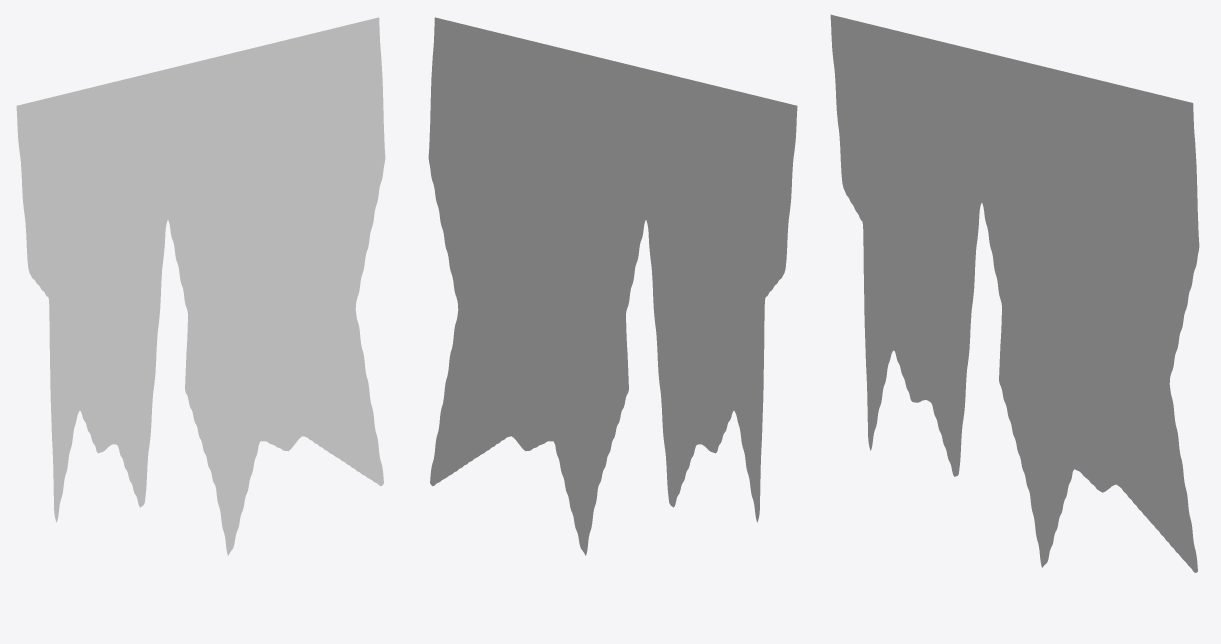
Rendered from SM_Prop_Flag_Piece_04.fbx.
The picture shows the model from 3 angles, left to right: view 1: azimuth 30°, elevation 25°; view 2: azimuth 150°, elevation 25°; view 3: azimuth 330°, elevation 25°; orthographic projection.
Visible parts, largest first — view 1: SM_Prop_Flag_Piece_04; view 2: SM_Prop_Flag_Piece_04; view 3: SM_Prop_Flag_Piece_04.
Boxes of the visible parts, left/top/right/bottom form: SM_Prop_Flag_Piece_04: left=16, top=17, right=385, bottom=555; SM_Prop_Flag_Piece_04: left=428, top=17, right=797, bottom=555; SM_Prop_Flag_Piece_04: left=830, top=14, right=1199, bottom=572.
Size of the model in its own units: 45.55 by 60.2 by 0.
